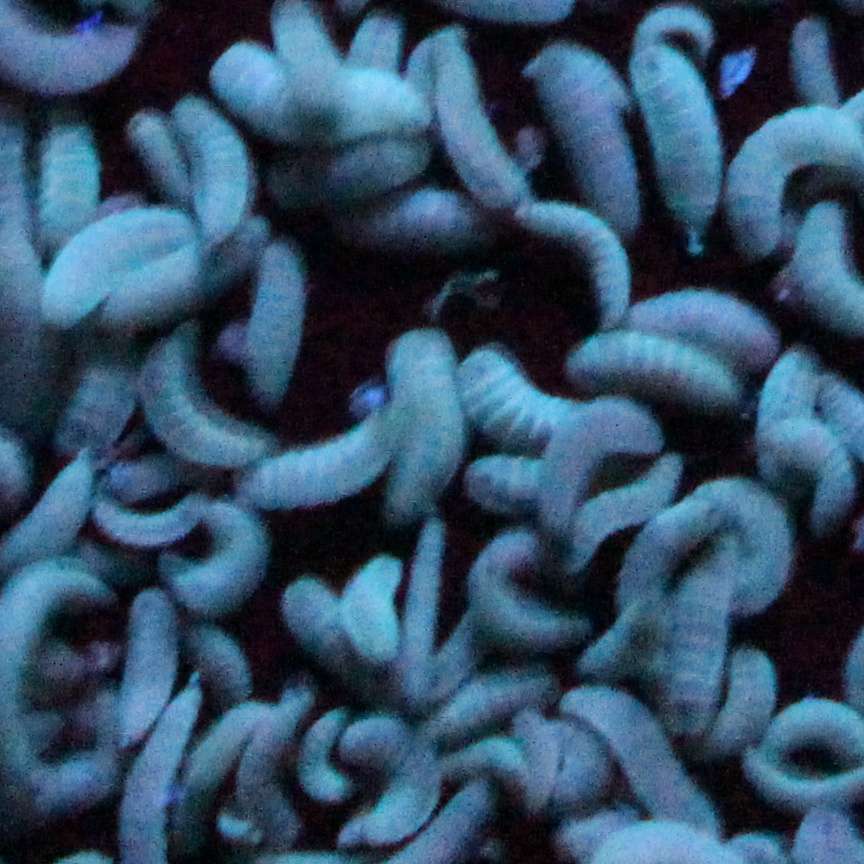larve: (555, 682, 722, 832), (130, 339, 283, 464), (422, 43, 526, 221), (665, 478, 794, 614), (638, 26, 708, 259), (744, 107, 858, 246), (51, 203, 176, 325), (112, 678, 201, 846), (540, 403, 655, 532), (469, 525, 583, 643), (247, 407, 387, 496), (162, 103, 251, 236), (570, 335, 726, 410), (662, 553, 730, 725), (522, 200, 622, 314), (183, 496, 287, 600), (389, 326, 445, 519), (358, 718, 440, 835), (240, 685, 301, 828), (280, 139, 422, 196), (451, 350, 547, 428), (276, 3, 333, 121), (530, 710, 608, 796), (247, 264, 294, 400), (780, 25, 844, 121), (762, 346, 808, 464), (362, 557, 405, 657)
